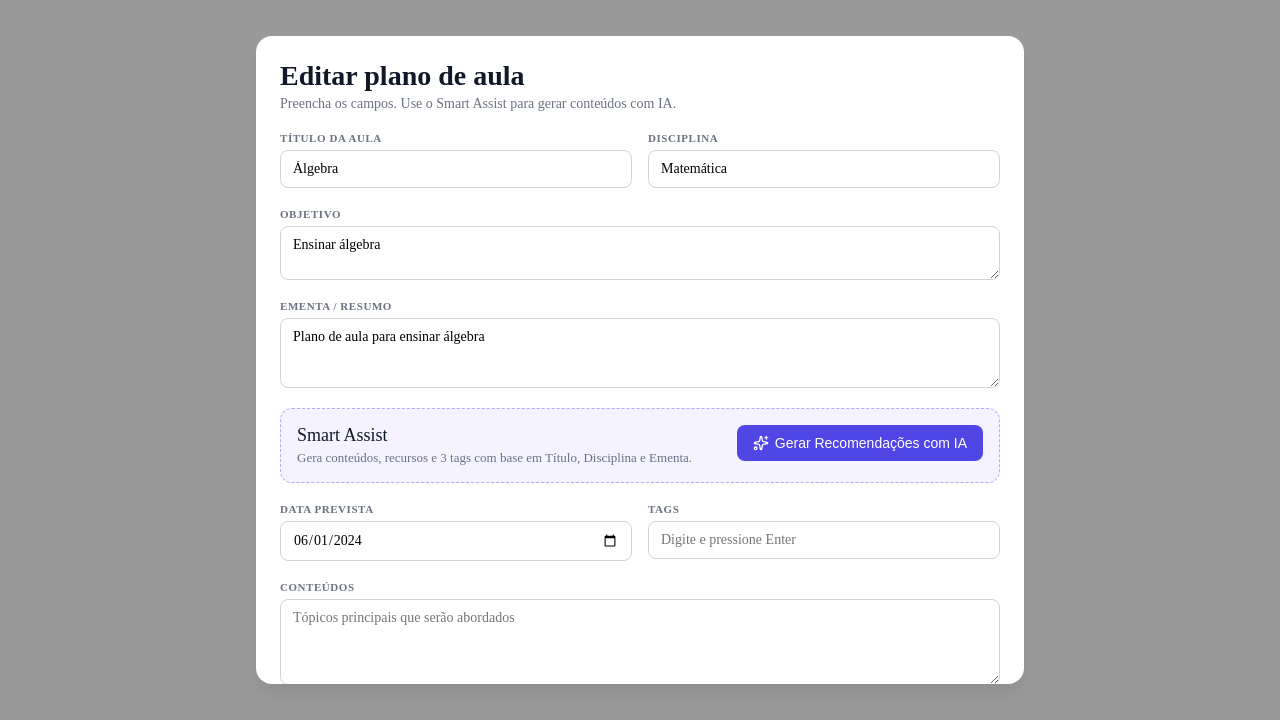
Test: Testes de LessonPlanForm › CT-04: Deve preencher campos de conteúdos, recursos e tags com IA
Click the button "Gerar Recomendações com IA": {"x": 860, "y": 443} [737,425,983,461]
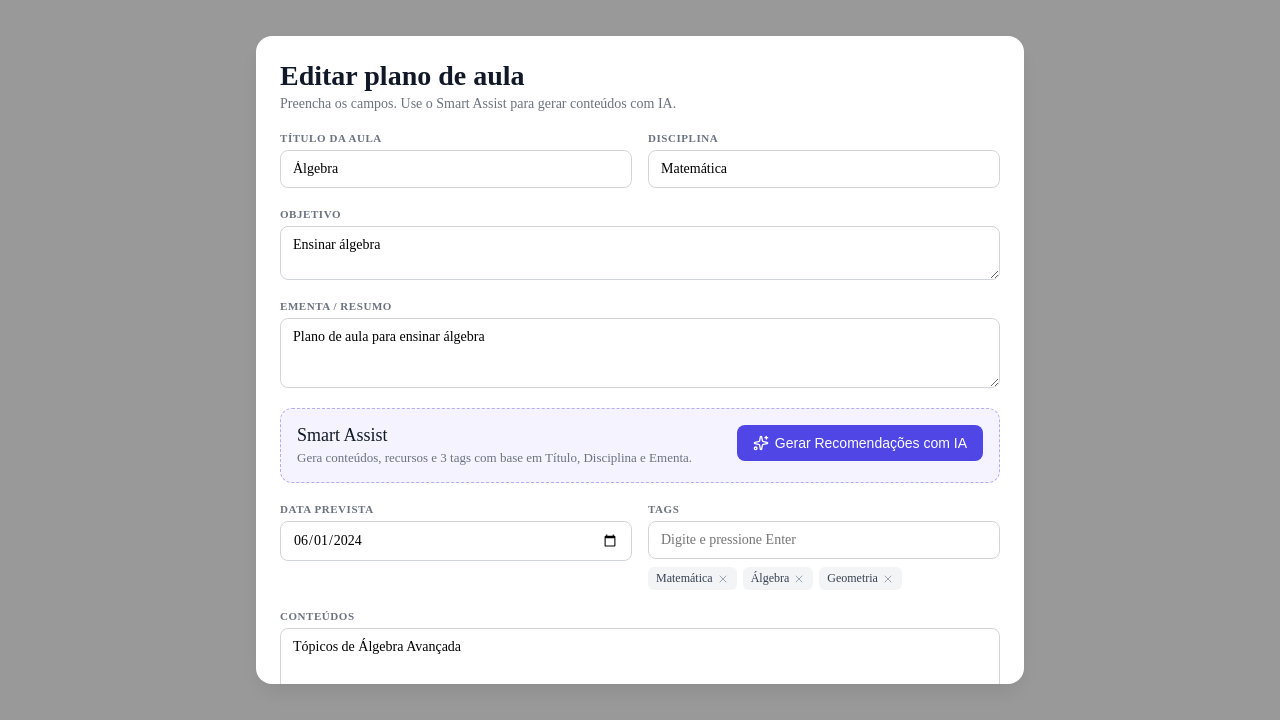
Now the 3rd text box showing "Tópicos de Álgebra Avançada" is shown, box [280,628,1000,684]
Now the text "Matemática" is shown, box [648,567,737,590]
